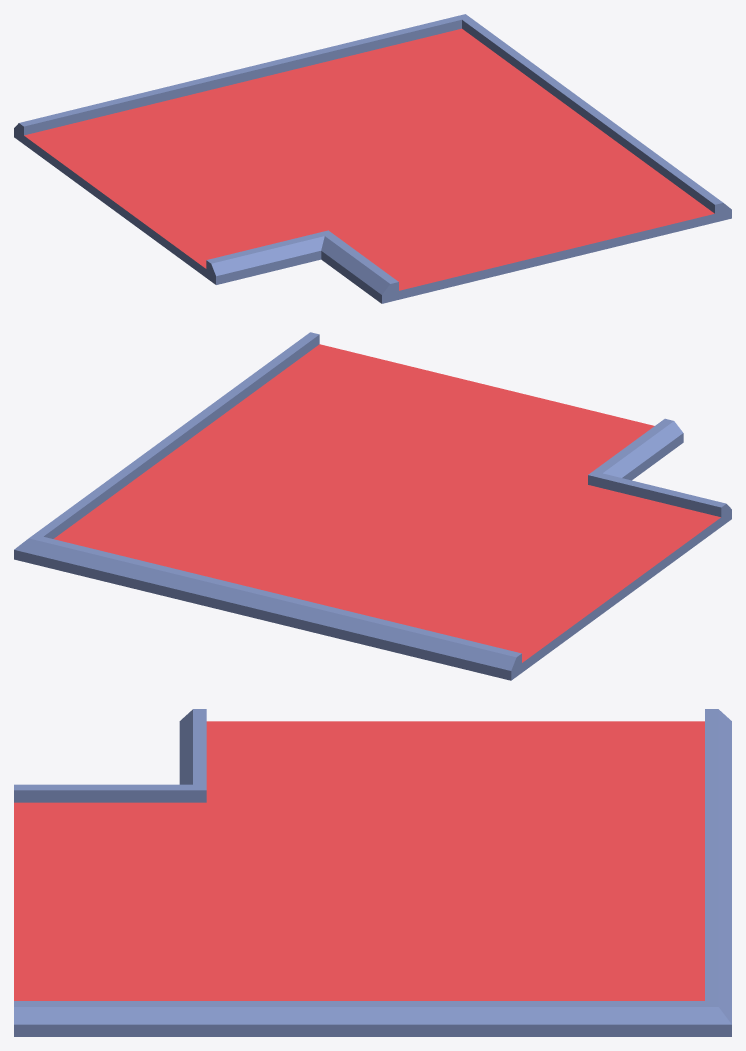
Rendered from tile-turn.glb.
The picture shows the model from 3 angles, top to bottom: view 1: azimuth 30°, elevation 25°; view 2: azimuth 150°, elevation 25°; view 3: azimuth 270°, elevation 25°; orthographic projection. The views are drawn at different scales.
Visible parts, largest first — view 1: tile-turn; view 2: tile-turn; view 3: tile-turn.
Part boxes in pixels (x1,y1,x2,y2): tile-turn: [14, 14, 731, 303]; tile-turn: [14, 332, 731, 680]; tile-turn: [14, 709, 731, 1036].
Bounding box in the file's own units: 13 × 0.487 × 13.
